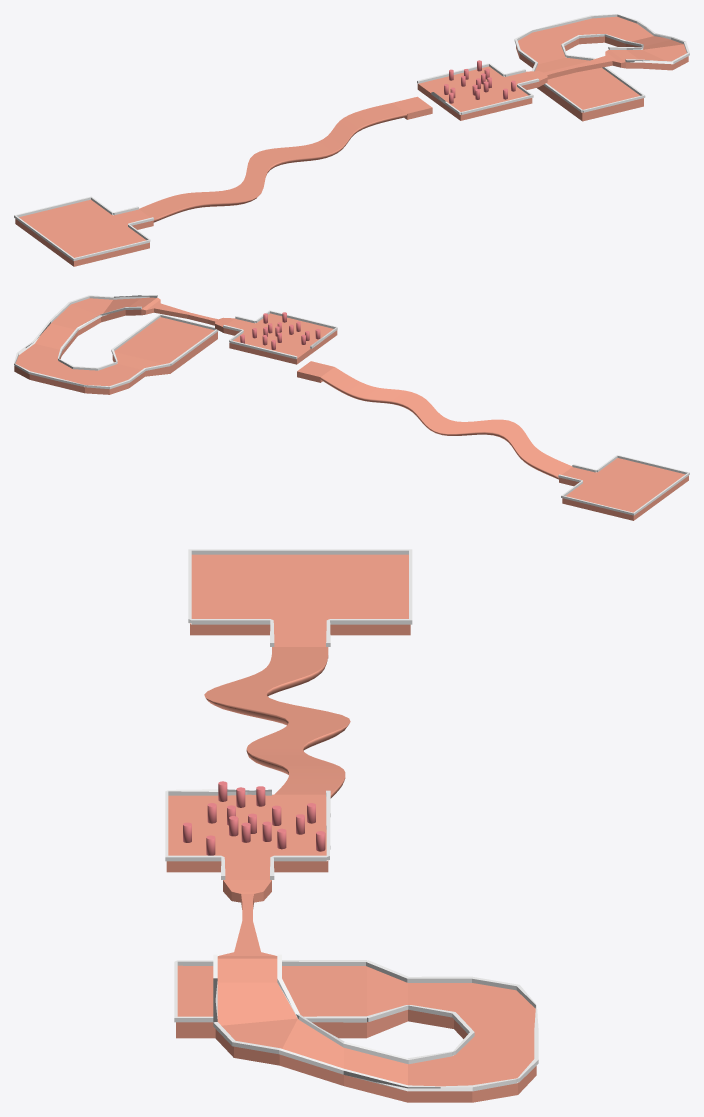
File: level1_old.glb
The picture shows the model from 3 angles, top to bottom: view 1: azimuth 30°, elevation 25°; view 2: azimuth 150°, elevation 25°; view 3: azimuth 270°, elevation 25°; orthographic projection. The views are drawn at different scales.
Visible parts, largest first — view 1: descender -col, ramp -col, descender end -col, start platform -col, obstacle platform -col, ramp rail -col, descender end rail -col, bridge -col, obstacle platform rail -col, start platform rail -col, descender start -col; view 2: ramp -col, descender -col, descender end -col, start platform -col, obstacle platform -col, ramp rail -col, descender end rail -col, bridge -col, obstacle platform rail -col, start platform rail -col, descender start -col; view 3: ramp -col, descender end -col, descender -col, obstacle platform -col, start platform -col, ramp rail -col, descender end rail -col, bridge -col, obstacle platform rail -col, start platform rail -col.
Boxes of the visible parts, box(x1,y1,x2,y2) form: descender -col: box(139, 103, 406, 222); ramp -col: box(516, 16, 688, 72); descender end -col: box(15, 199, 153, 266); start platform -col: box(537, 64, 643, 121); obstacle platform -col: box(417, 66, 538, 120); ramp rail -col: box(514, 14, 689, 71); descender end rail -col: box(14, 196, 153, 260); bridge -col: box(526, 49, 625, 86); obstacle platform rail -col: box(417, 63, 539, 114); start platform rail -col: box(543, 58, 645, 112); descender start -col: box(392, 96, 432, 119); ramp -col: box(14, 297, 170, 394); descender -col: box(320, 367, 572, 479); descender end -col: box(559, 458, 688, 520); start platform -col: box(114, 317, 217, 373); obstacle platform -col: box(223, 313, 337, 364); ramp rail -col: box(14, 295, 170, 389); descender end rail -col: box(558, 455, 689, 515); bridge -col: box(141, 297, 235, 332); obstacle platform rail -col: box(223, 310, 337, 359); start platform rail -col: box(112, 314, 218, 365); descender start -col: box(297, 361, 333, 382); ramp -col: box(215, 958, 536, 1102); descender end -col: box(190, 554, 410, 658); descender -col: box(204, 647, 350, 798); obstacle platform -col: box(166, 794, 328, 879); start platform -col: box(176, 965, 366, 1038); ramp rail -col: box(213, 954, 538, 1091); descender end rail -col: box(188, 549, 412, 646); bridge -col: box(217, 880, 277, 958); obstacle platform rail -col: box(165, 789, 330, 879); start platform rail -col: box(174, 960, 366, 1022).
Size of the model in its own units: 152 by 16.39 by 40.74.
